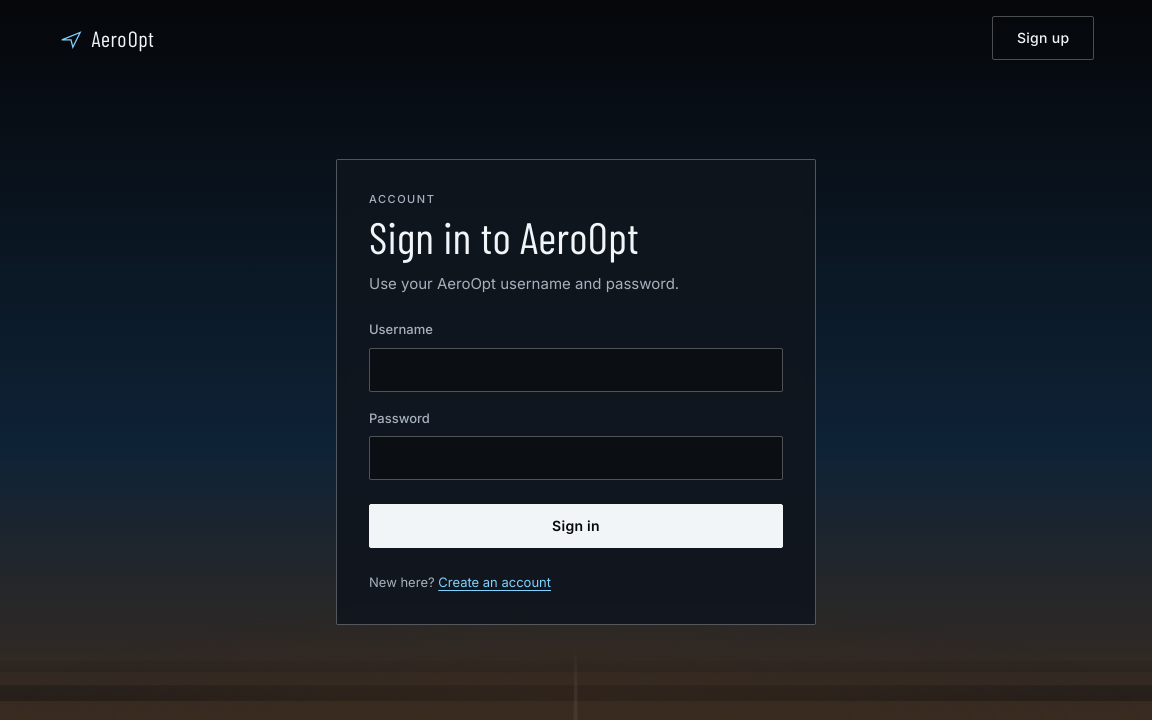
/login › validates empty fields without a request
Click the button "Sign in" at (576, 526), box [369,504,783,548]
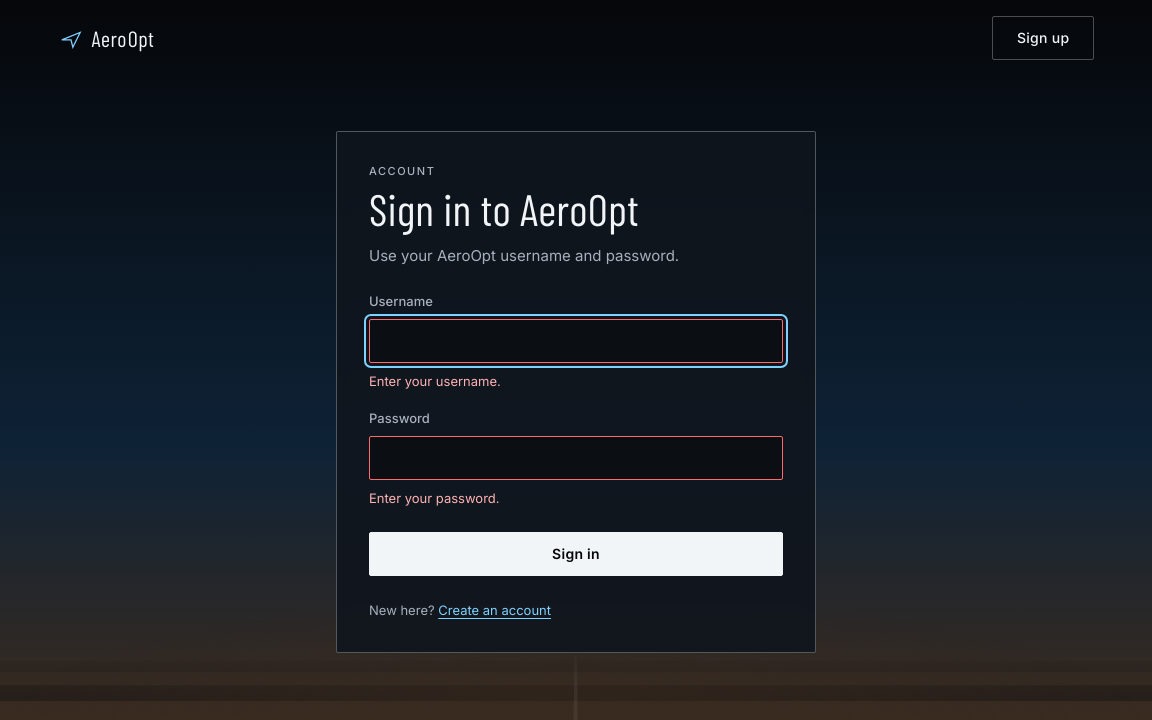
Expected: the text "Enter your username." is shown, [369,373,501,389]
